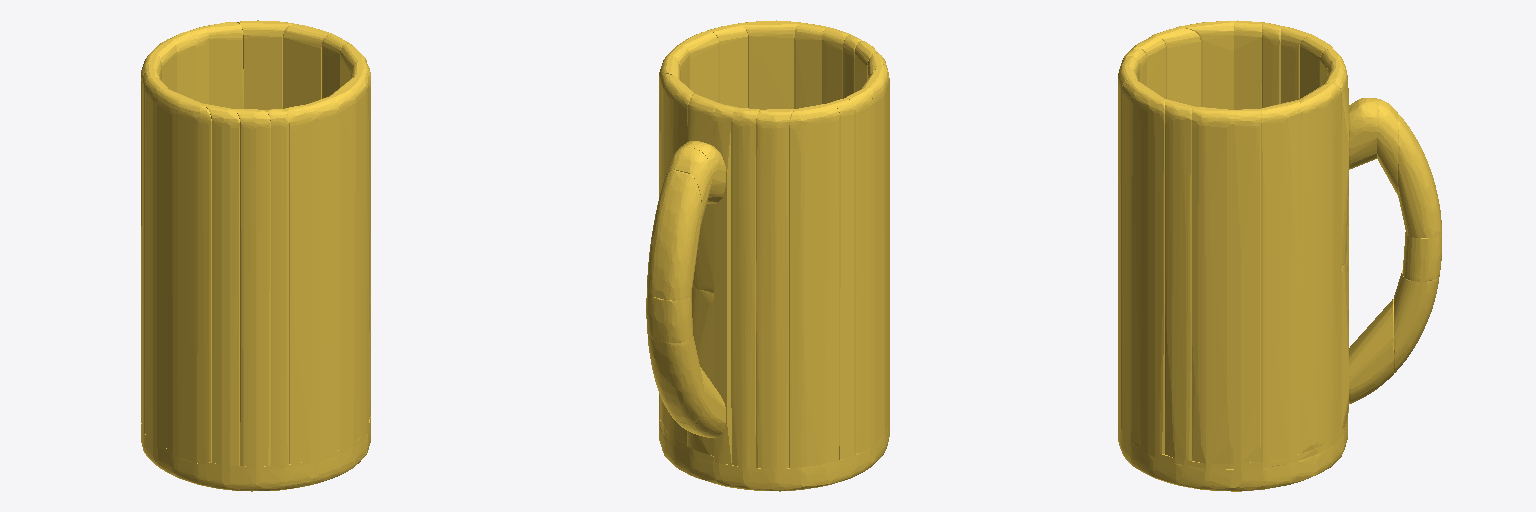
URDF robot description (246.urdf):
<?xml version="1.0" ?>
<robot name="246.urdf">
	<link name="baseLink">
		<inertial>
			<origin rpy="0 0 0" xyz="0 0 0"/>
				<mass value="0.1"/>
				<inertia ixx="6e-5" ixy="0" ixz="0" iyy="6e-5" iyz="0" izz="6e-5"/>
		</inertial>
		<visual>
			<origin rpy="0 0 0" xyz="0 0 0"/>
			<geometry>
				<mesh filename="22_decom_wt.obj" scale="0.86 0.86 1.20"/>
			</geometry>
			<material name="yellow">
				<color rgba="0.98 0.84 0.35 1"/>
			</material>
		</visual>
		<collision>
			<origin rpy="0 0 0" xyz="0 0 0"/>
			<geometry>
				<mesh filename="22_decom_wt.obj" scale="0.86 0.86 1.20"/>
			</geometry>
		</collision>
	</link>
</robot>

--- Render facts (derived) ---
3 views of the same robot in one strip: view 1: azimuth 30°, elevation 25°; view 2: azimuth 150°, elevation 25°; view 3: azimuth 270°, elevation 25° (orthographic).
Model 246.urdf with 1 links and 0 joints (none), rooted at baseLink, posed all joints at 0.
Links seen in each view (by area): view 1: baseLink; view 2: baseLink; view 3: baseLink.
Link boxes in pixels (left/top/right/bottom): baseLink: left=141, top=20, right=370, bottom=491; baseLink: left=646, top=20, right=889, bottom=491; baseLink: left=1118, top=20, right=1441, bottom=491.
Bounding box of the posed robot: 0.0911 × 0.1288 × 0.1659 m (x, y, z).
1 mesh visuals loaded from 1 distinct referenced files (1 OBJ).